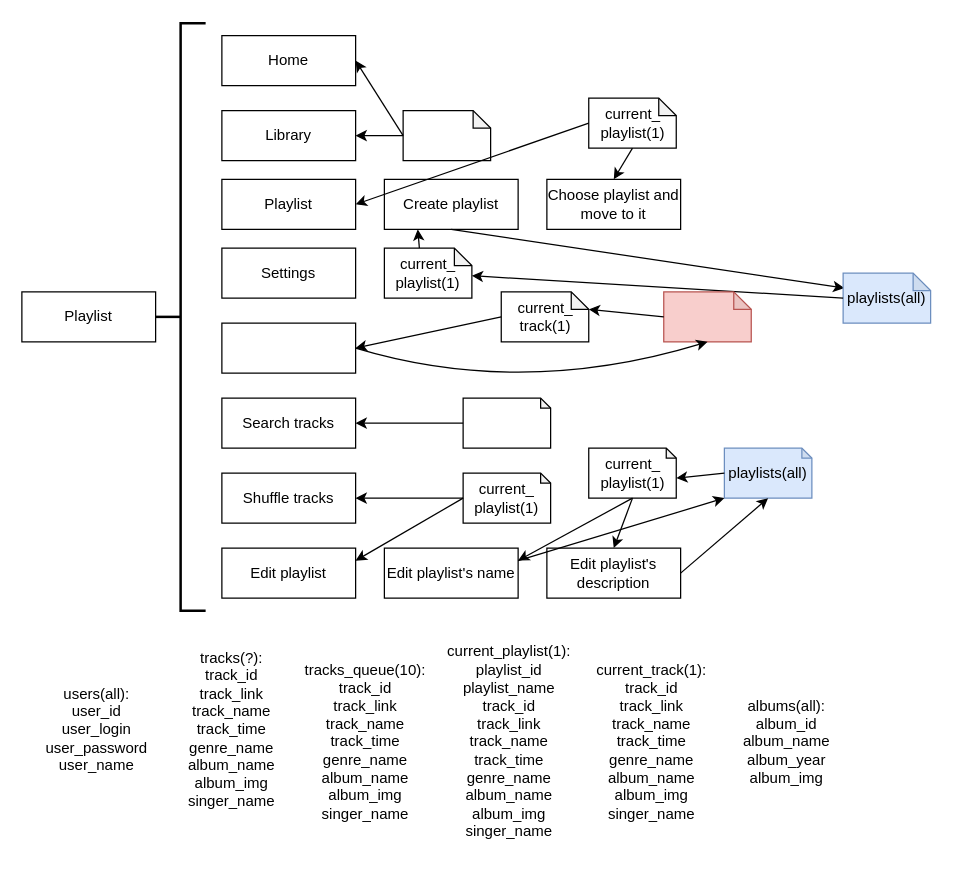
The diagram is 953 pixels wide and 869 high, and some of its shapes have lost their labels. The shapes that lost their labels are listed below. From the top down, each one's centre as x and y in pixels, then its label:
At (x=446, y=135): "tracks(10)".
At (x=706, y=316): "track_ queue(10)".
At (x=288, y=347): "Track".
At (x=506, y=422): "tracks(all), albums(all)".
